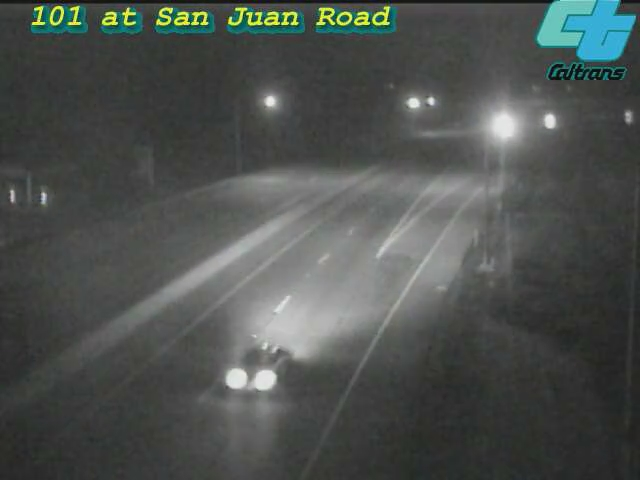vehicle: (204, 309, 314, 419), (480, 101, 530, 151), (523, 95, 573, 145)
